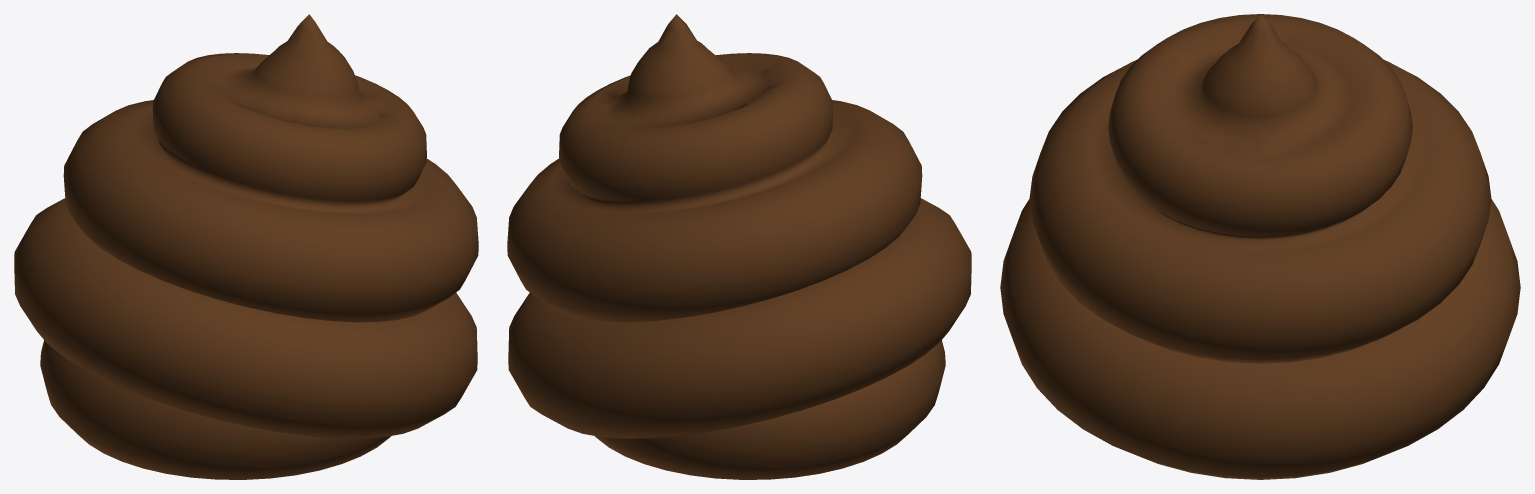
The model's file is tai.fbx.
The picture shows the model from 3 angles, left to right: view 1: azimuth 30°, elevation 25°; view 2: azimuth 150°, elevation 25°; view 3: azimuth 270°, elevation 25°; orthographic projection. The views are drawn at different scales.
Visible parts, largest first — view 1: Sphere; view 2: Sphere; view 3: Sphere.
Boxes of the visible parts, x1,y1,x2,y2 form: Sphere: (14,14,478,479); Sphere: (507,14,971,479); Sphere: (1000,14,1520,479).
Bounding box in the file's own units: 122 × 111 × 125.
